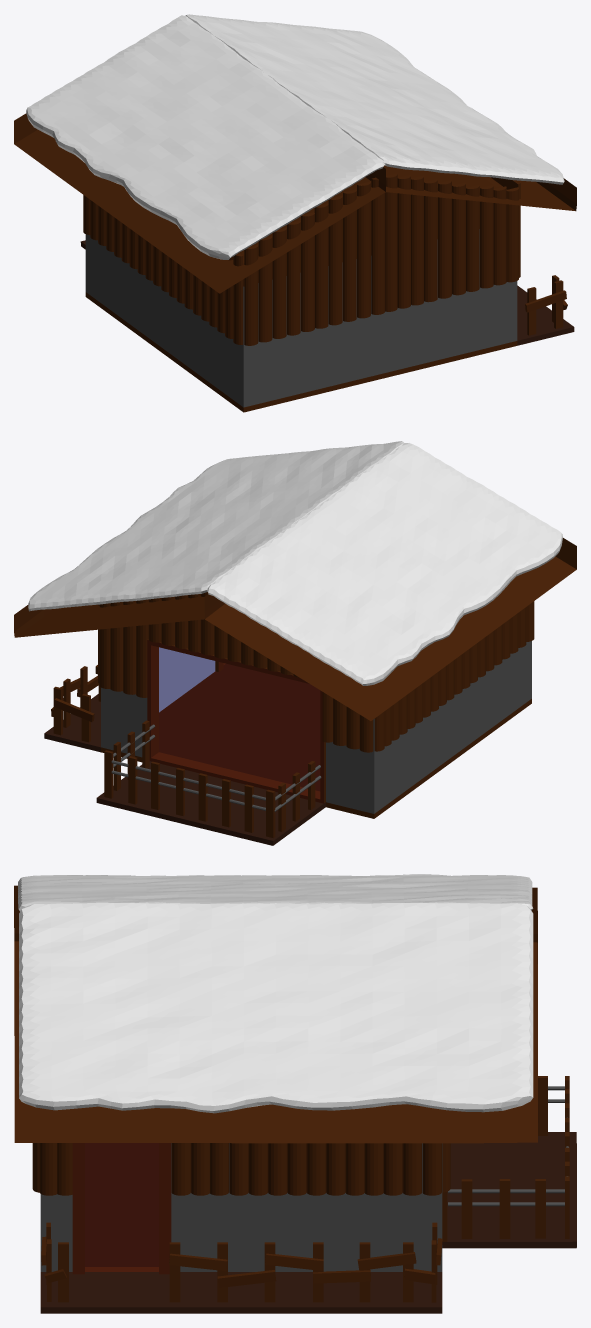
The model's file is Haus.fbx.
3 views of the same model, one above another, from view 1: azimuth 30°, elevation 25°; view 2: azimuth 150°, elevation 25°; view 3: azimuth 270°, elevation 25° (orthographic). The views are drawn at different scales.
Visible parts, largest first — view 1: Plane.001, Plane, Plane.002; view 2: Plane.001, Plane, Plane.002; view 3: Plane.001, Plane, Plane.002.
Boxes of the visible parts, x1,y1,x2,y2 form: Plane.001: (26,14,564,259); Plane: (80,173,574,412); Plane.002: (14,113,576,293); Plane.001: (28,441,562,685); Plane: (44,592,534,845); Plane.002: (14,538,576,720); Plane.001: (18,874,533,1113); Plane: (32,1076,576,1313); Plane.002: (14,885,538,1143).
Bounding box in the file's own units: 667 × 396 × 701.
